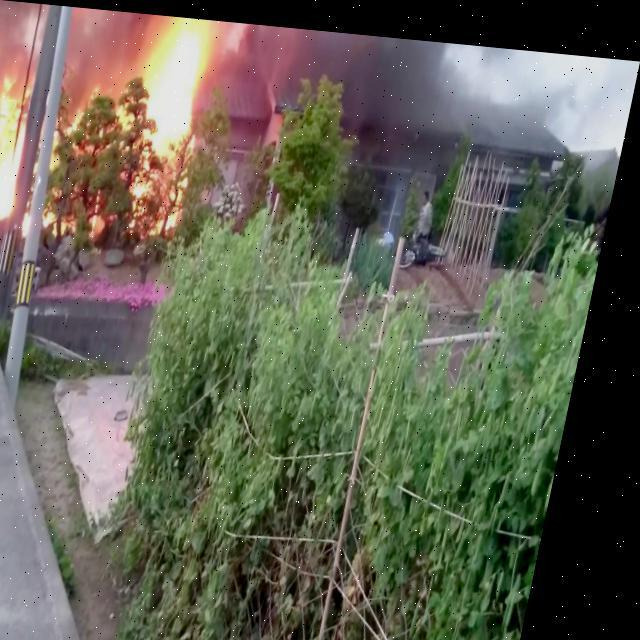Fire: (105, 13, 225, 235), (0, 75, 39, 266)
